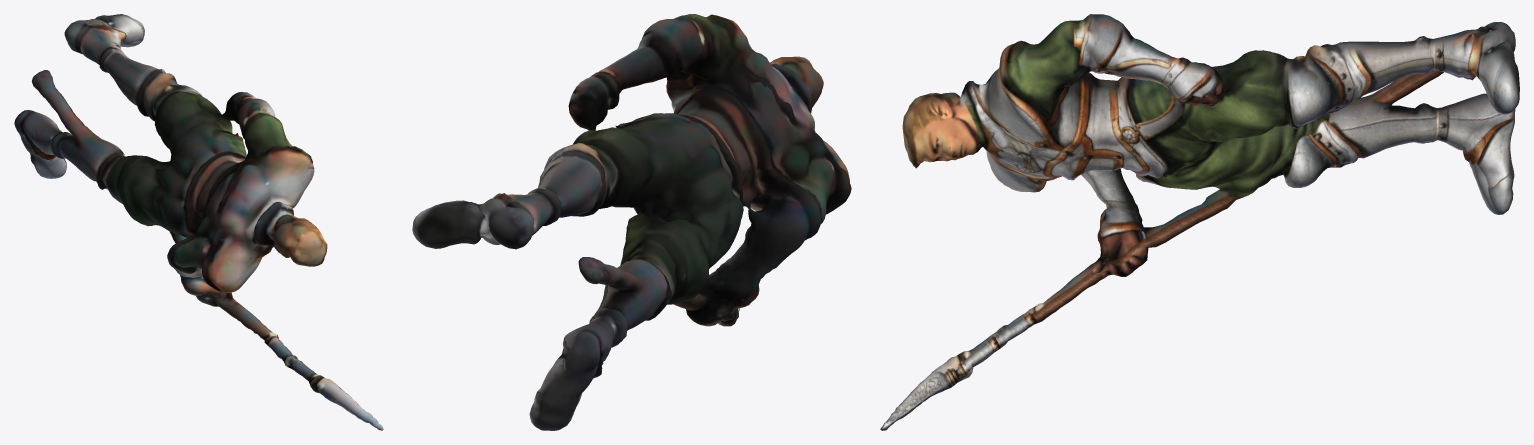
Rendered from body-sculpt-v1.glb.
3 views of the same model, side by side, from view 1: azimuth 30°, elevation 25°; view 2: azimuth 150°, elevation 25°; view 3: azimuth 270°, elevation 25° (orthographic). The views are drawn at different scales.
Parts seen in each view (by area): view 1: world; view 2: world; view 3: world.
Boxes of the visible parts, bbox=[...] form: world: bbox=[14, 14, 383, 430]; world: bbox=[412, 14, 851, 430]; world: bbox=[880, 14, 1519, 430].
Bounding box in the file's own units: 0.3485 × 0.6604 × 0.9976.
1 material, 1 textured.
